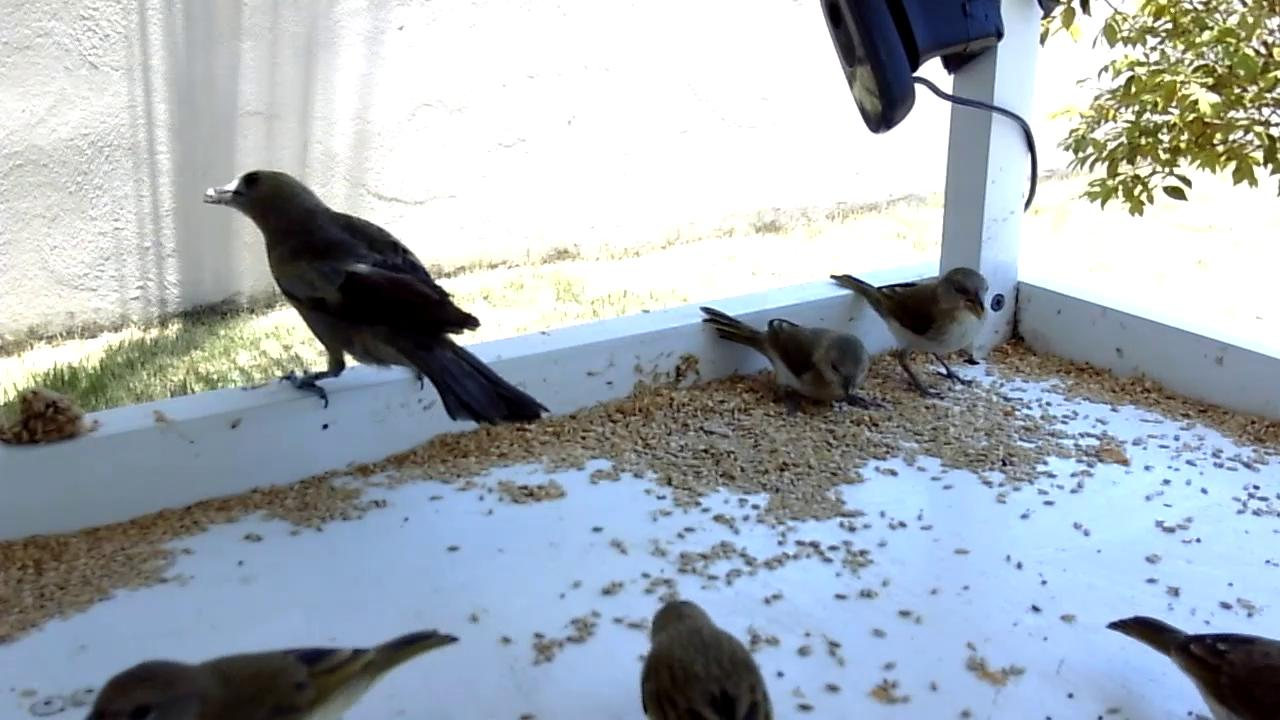canario_do_amazonas: (84, 624, 462, 720), (829, 267, 993, 405), (699, 301, 872, 417), (1104, 609, 1280, 720), (636, 598, 776, 720)
sanhaco_do_coqueiro: (200, 169, 553, 433)
